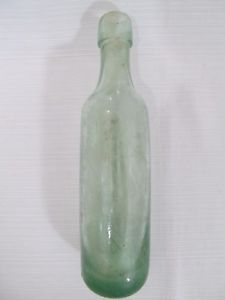Rec_Glass: (79, 9, 149, 299)
